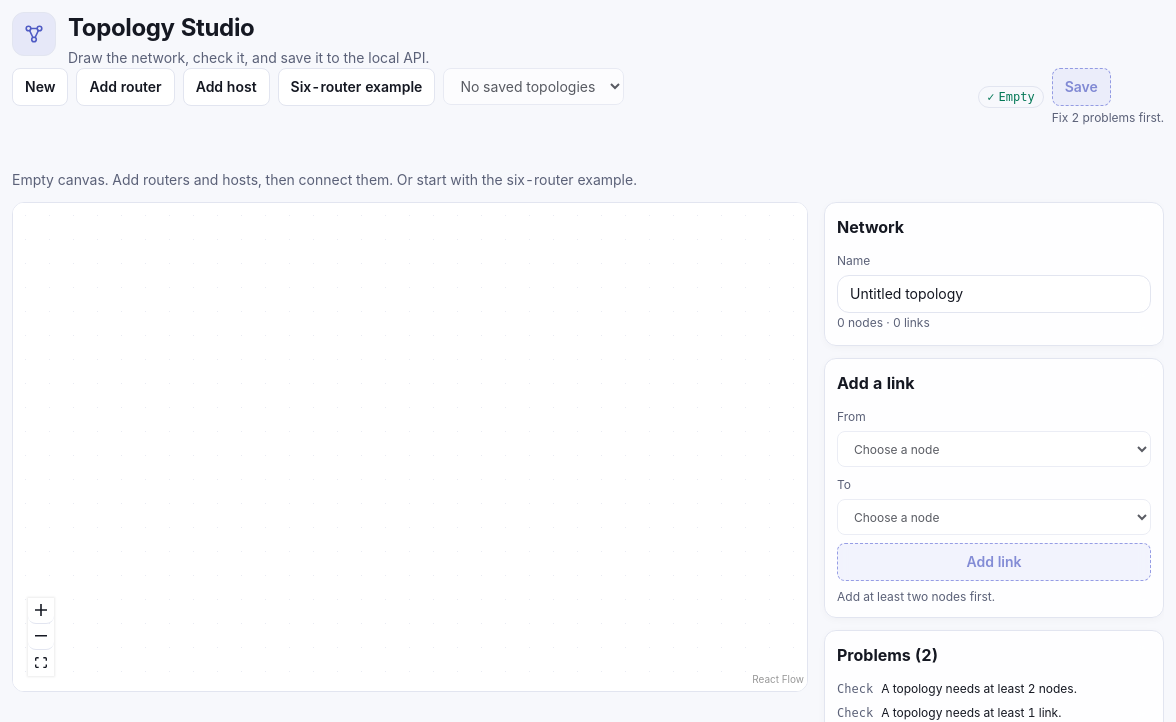
Scenario: editing › changing the type, and deleting a node together with its links
The image size is (1176, 722).
Click the button "Six-router example". click: click(356, 87)
box: [278,68,435,106]
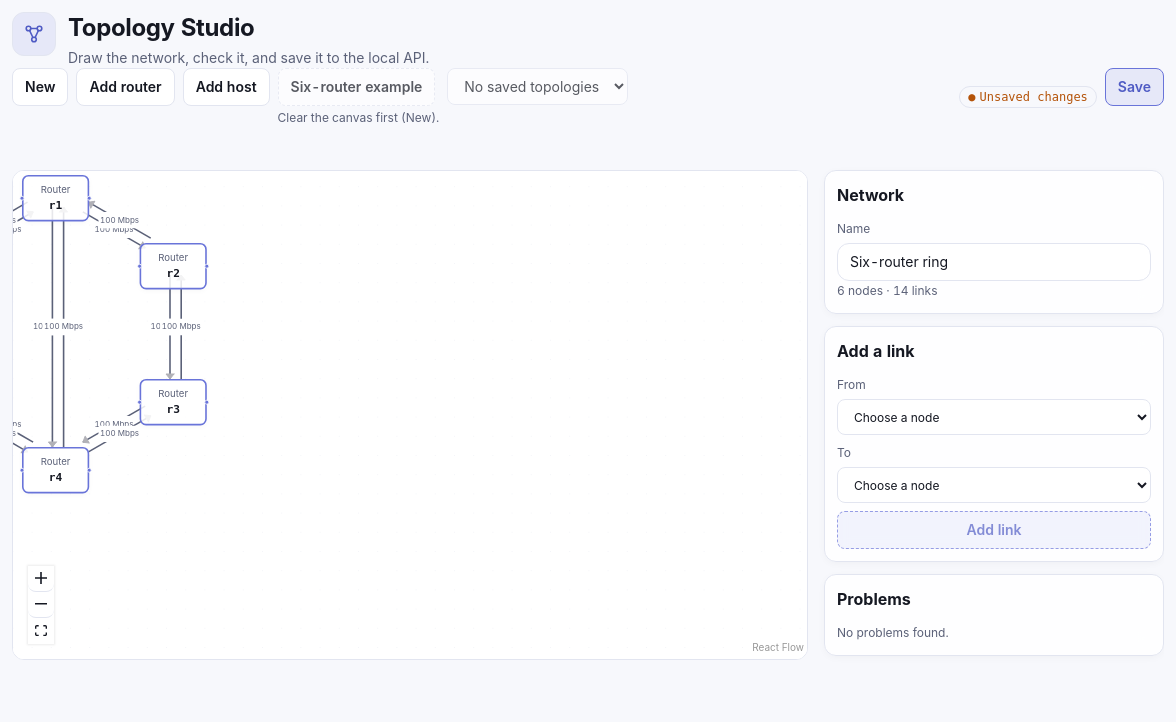
Click the element with class "react-flow__node" showing "Router r3". click: click(173, 402)
box: [140,379,207,425]
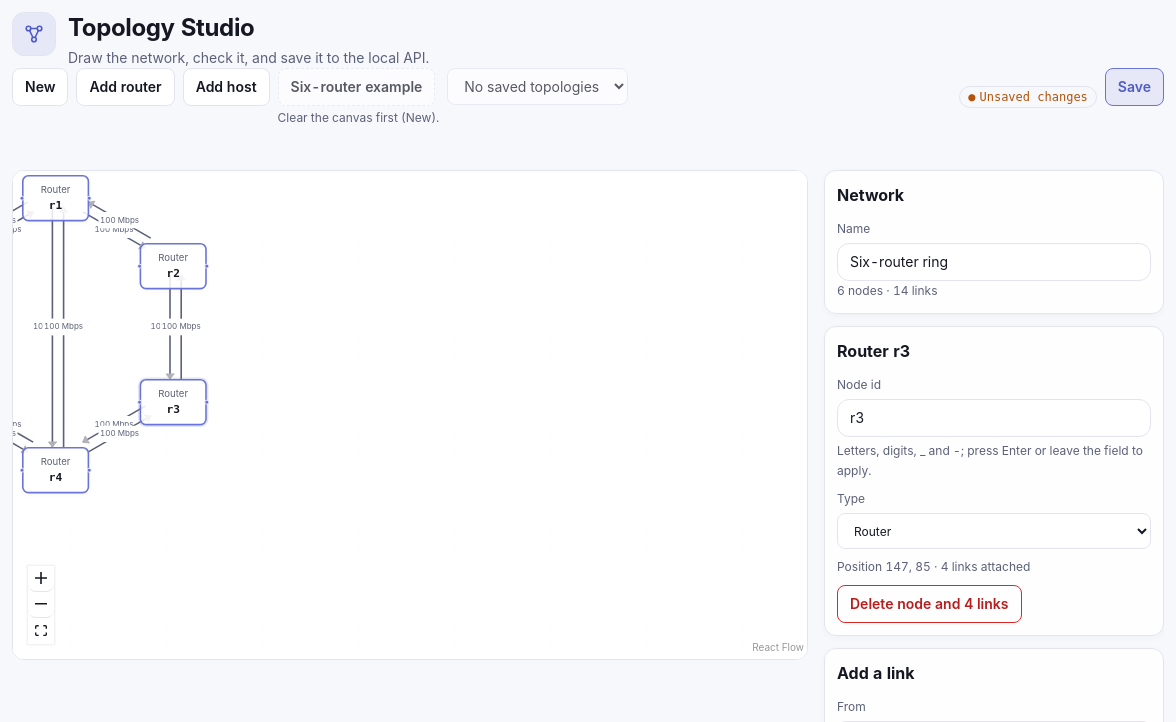
Now the heading "Router r3" is shown, box [837,341,910,361]
Select "Host" in the dropdown labelled "Type". click: (994, 531)
box: [837,513,1151,549]
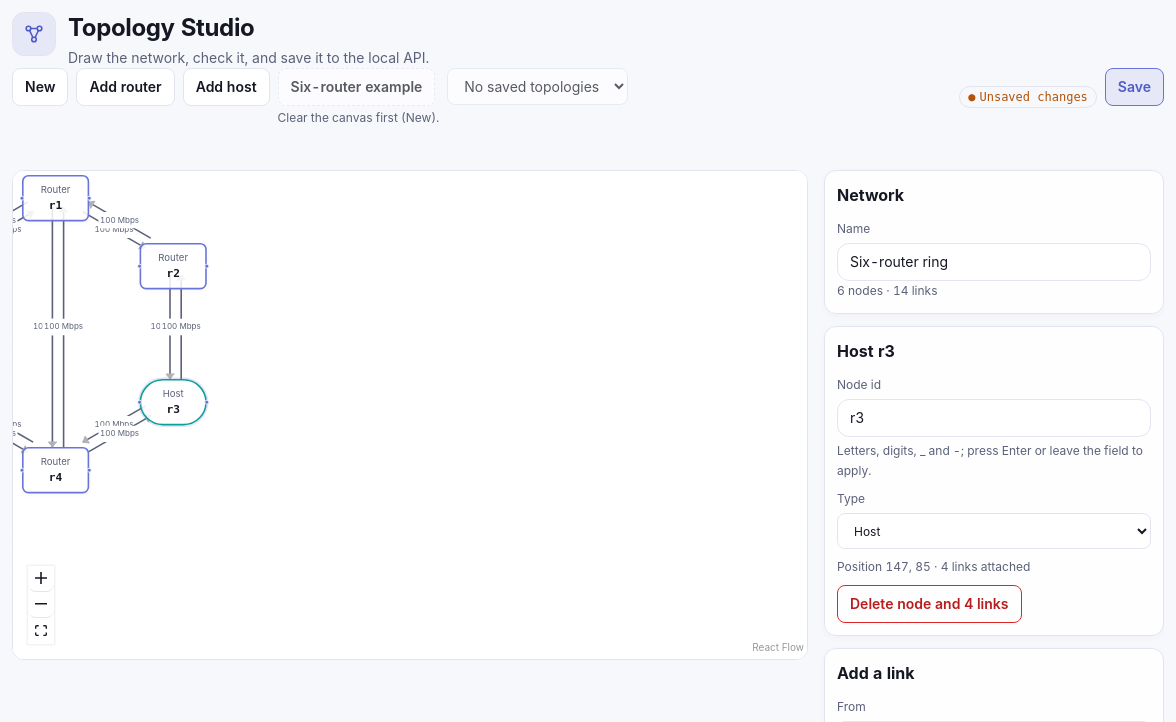
Now the heading "Host r3" is shown, box [837,341,895,361]
Click the button "Delete node and 4 links". click: click(929, 604)
box: [837,585,1022,623]
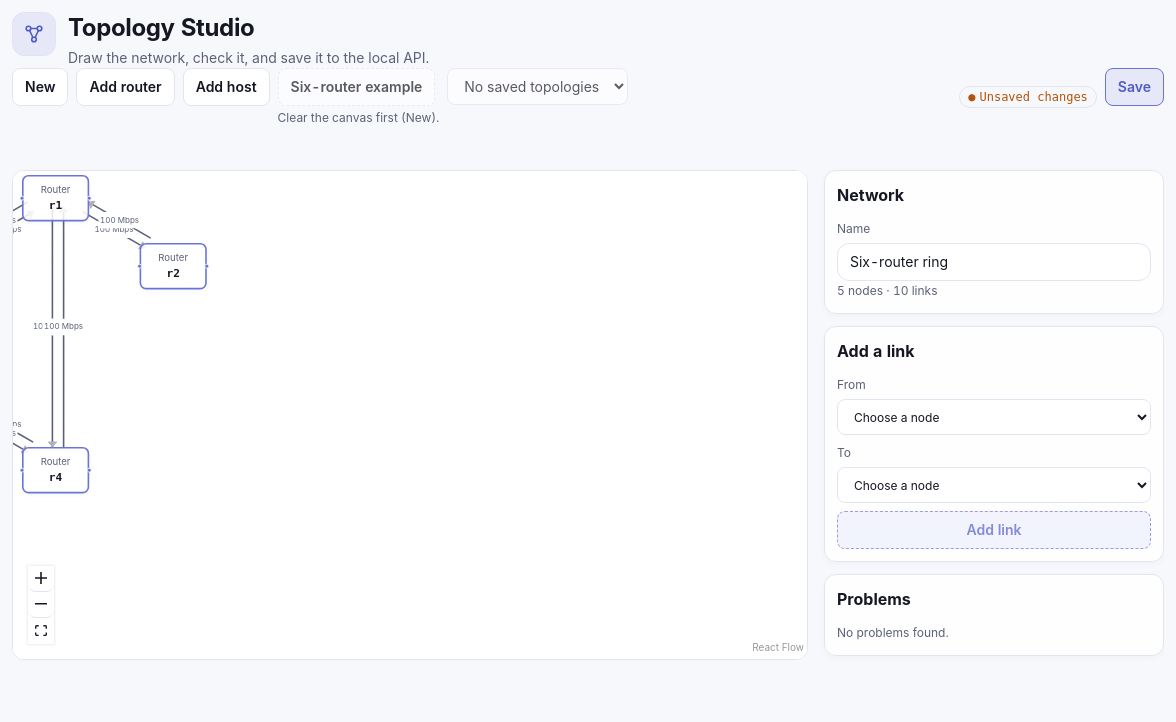
Now the text "5 nodes · 10 links" is shown, box [837,283,938,298]
Now the text "r3" is gone
